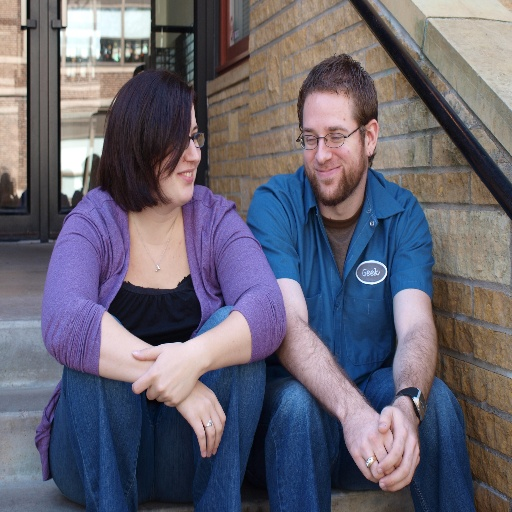hand: (129, 338, 203, 409), (340, 407, 397, 482), (376, 403, 422, 493), (175, 378, 227, 456)
